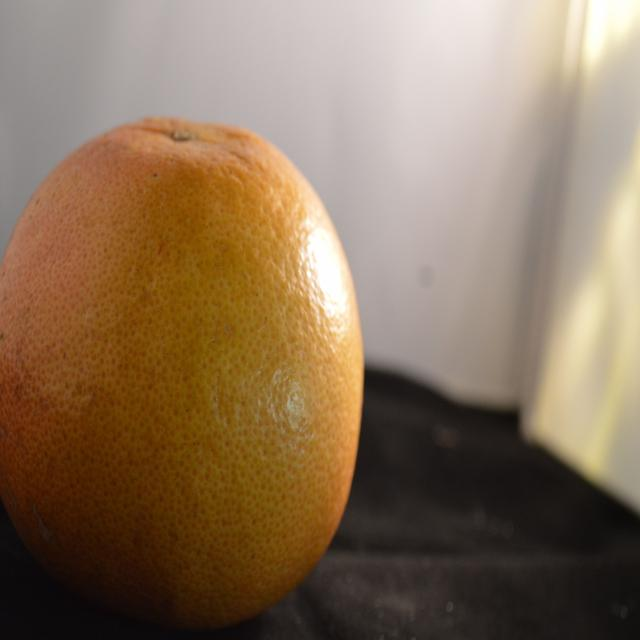Orange: (0, 114, 366, 614)
